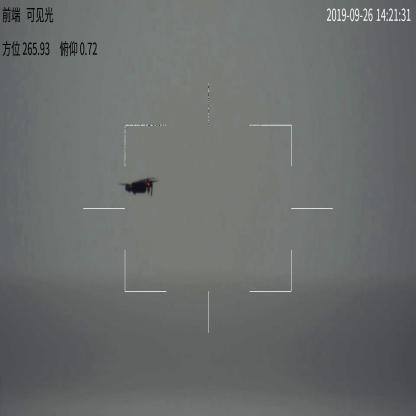uav: (121, 175, 159, 200)
